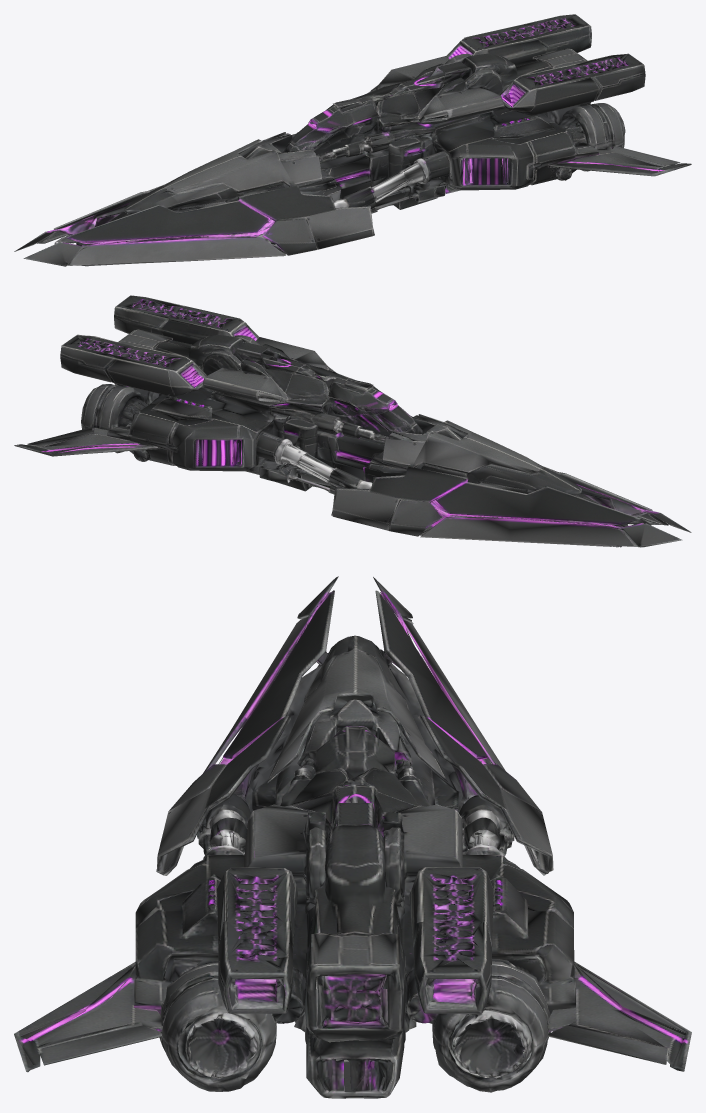
Rendered from terminus_warden_hull.glb.
3 renders of one model, top to bottom at view 1: azimuth 30°, elevation 25°; view 2: azimuth 150°, elevation 25°; view 3: azimuth 270°, elevation 25°, orthographic. The views are drawn at different scales.
Visible parts, largest first — view 1: terminus_warden_hull; view 2: terminus_warden_hull; view 3: terminus_warden_hull.
Boxes of the visible parts, left/top/right/bottom form: terminus_warden_hull: left=14, top=14, right=691, bottom=266; terminus_warden_hull: left=14, top=295, right=691, bottom=547; terminus_warden_hull: left=14, top=576, right=691, bottom=1098.
Size of the model in its own units: 2.35 by 0.4999 by 1.27.
1 material, 1 textured.
